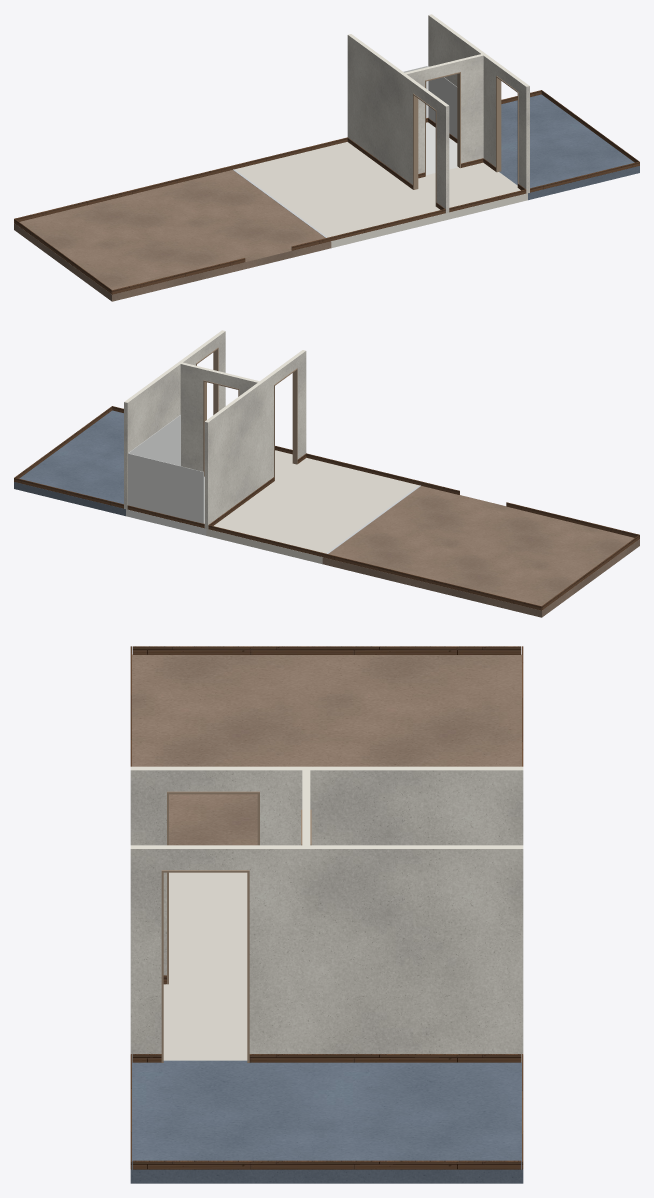
Rendered from trailer_in.glb.
The picture shows the model from 3 angles, top to bottom: view 1: azimuth 30°, elevation 25°; view 2: azimuth 150°, elevation 25°; view 3: azimuth 270°, elevation 25°; orthographic projection. The views are drawn at different scales.
Parts seen in each view (by area): view 1: trailer_in_carpet, trailer_in_plaster, trailer_in_vinyl_f, trailer_in_carpet_b, trailer_in_dkwood, trailer_in_trim, trailer_in_tile_a; view 2: trailer_in_carpet, trailer_in_plaster, trailer_in_vinyl_f, trailer_in_carpet_b, trailer_in_tile_a, trailer_in_dkwood, trailer_in_trim; view 3: trailer_in_plaster, trailer_in_carpet, trailer_in_carpet_b, trailer_in_vinyl_f, trailer_in_dkwood, trailer_in_trim.
Part boxes in pixels (x1=…): trailer_in_carpet: x1=14, y1=170, x2=331, y2=301; trailer_in_plaster: x1=347, y1=14, x2=529, y2=213; trailer_in_vinyl_f: x1=235, y1=142, x2=527, y2=248; trailer_in_carpet_b: x1=499, y1=94, x2=639, y2=200; trailer_in_dkwood: x1=14, y1=90, x2=639, y2=294; trailer_in_trim: x1=413, y1=72, x2=518, y2=206; trailer_in_tile_a: x1=403, y1=66, x2=458, y2=175; trailer_in_carpet: x1=322, y1=486, x2=639, y2=617; trailer_in_plaster: x1=124, y1=330, x2=306, y2=529; trailer_in_vinyl_f: x1=206, y1=450, x2=418, y2=564; trailer_in_carpet_b: x1=14, y1=410, x2=125, y2=516; trailer_in_tile_a: x1=126, y1=415, x2=206, y2=535; trailer_in_dkwood: x1=14, y1=406, x2=639, y2=610; trailer_in_trim: x1=196, y1=347, x2=297, y2=480; trailer_in_plaster: x1=130, y1=766, x2=523, y2=1062; trailer_in_carpet: x1=132, y1=654, x2=521, y2=845; trailer_in_carpet_b: x1=130, y1=1060, x2=523, y2=1183; trailer_in_vinyl_f: x1=163, y1=872, x2=247, y2=1060; trailer_in_dkwood: x1=130, y1=646, x2=523, y2=1169; trailer_in_trim: x1=161, y1=791, x2=311, y2=1062.
Size of the model in its own units: 11.8 by 2.43 by 3.8.
Materials: 8 (4 with a texture image).
